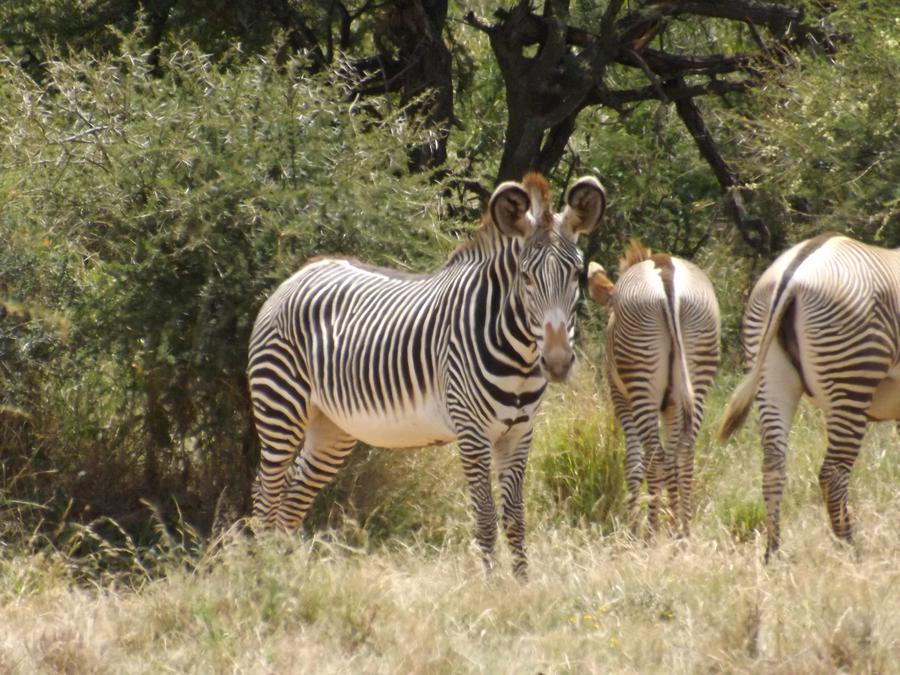zebra_grevys: (255, 230, 509, 434)
